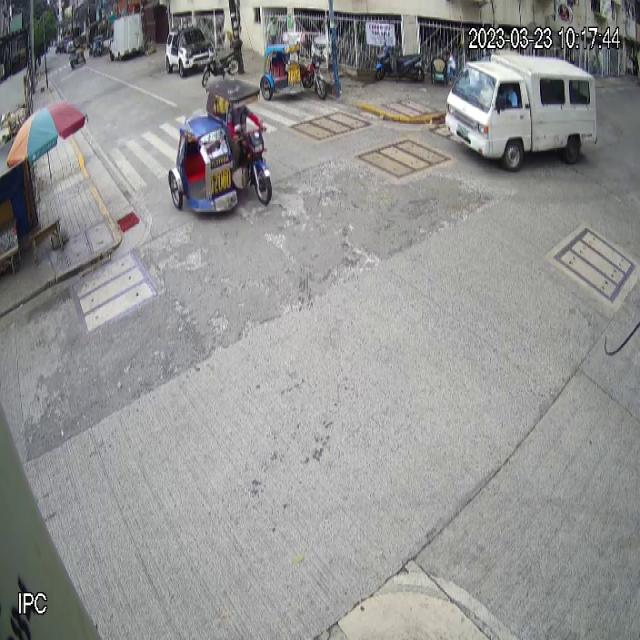Tricycle: (169, 76, 274, 216)
Van: (444, 52, 598, 176)
